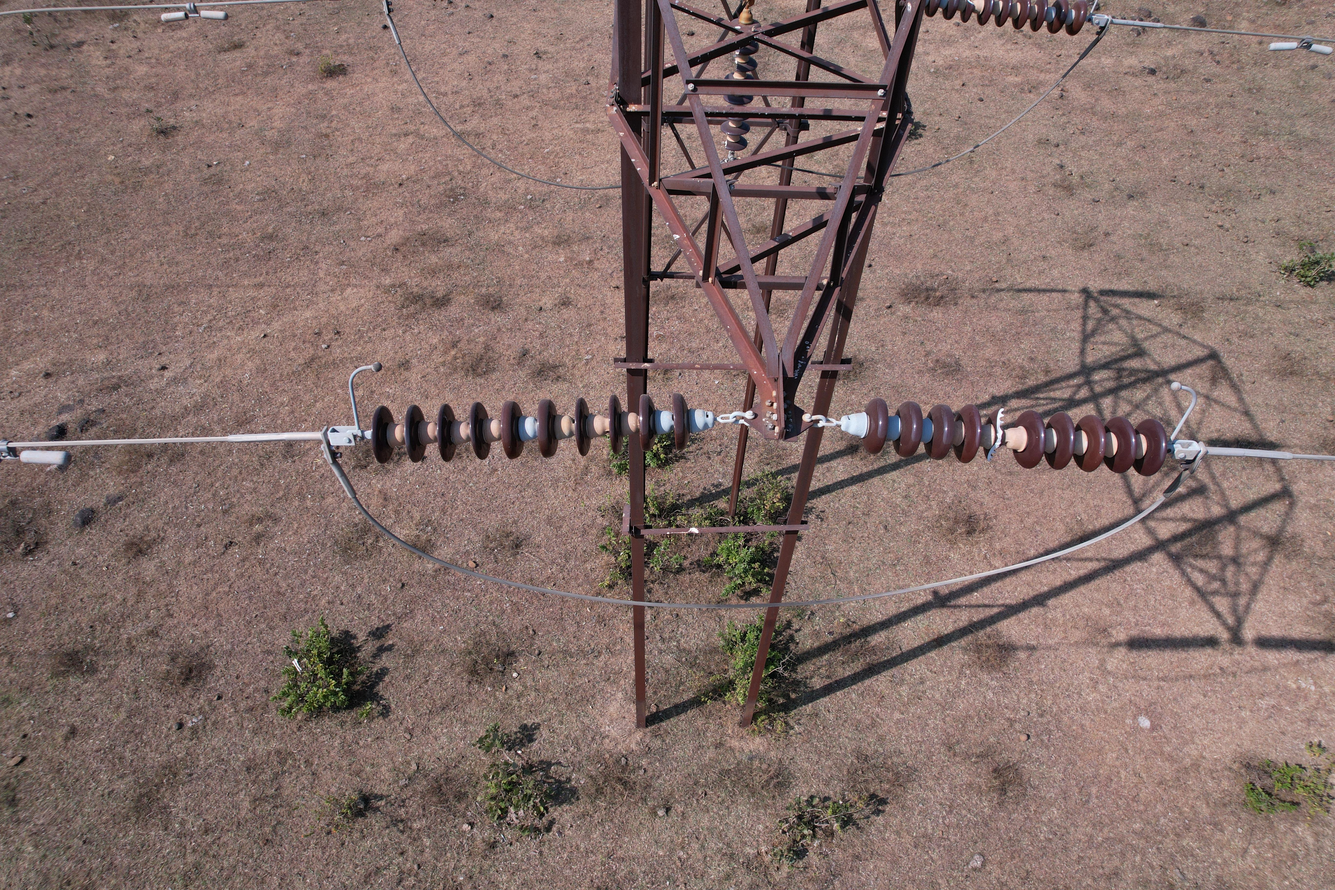broken_insulator: (982, 406, 1008, 475)
